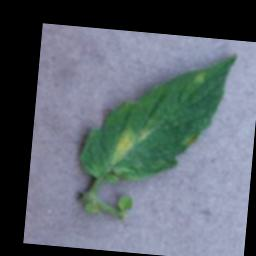Leaf_Mold: (109, 125, 154, 173)
